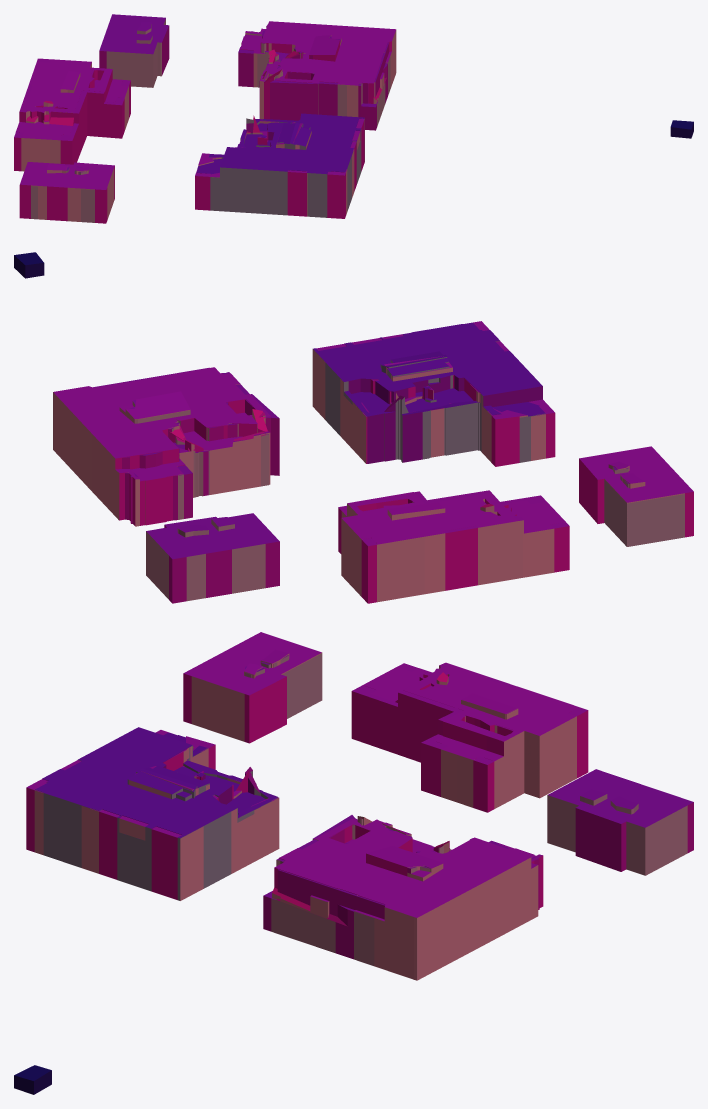
Rendered from buildings_4_14.glb.
The picture shows the model from 3 angles, top to bottom: view 1: azimuth 30°, elevation 25°; view 2: azimuth 150°, elevation 25°; view 3: azimuth 270°, elevation 25°; orthographic projection. The views are drawn at different scales.
Parts seen in each view (by area): view 1: buildings_4_14; view 2: buildings_4_14; view 3: buildings_4_14.
Part boxes in pixels (x1,y1,x2,y2): buildings_4_14: (14, 14, 693, 223); buildings_4_14: (14, 252, 693, 603); buildings_4_14: (14, 632, 693, 1094).
Bounding box in the file's own units: 195 × 15.78 × 135.
